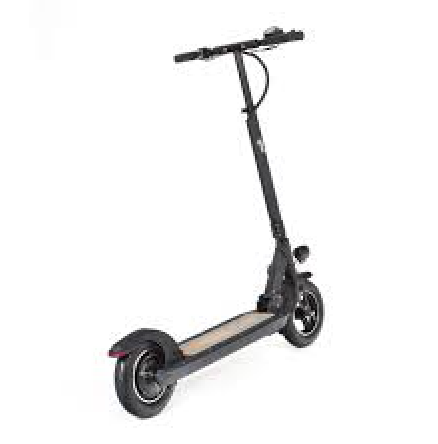scooter: (107, 22, 328, 418)
